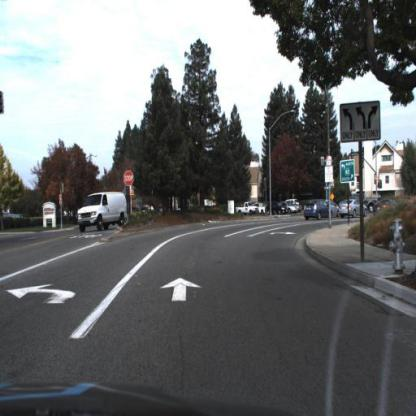car: (73, 186, 133, 235), (300, 195, 335, 224), (335, 195, 369, 222), (302, 201, 335, 228), (336, 197, 372, 220), (233, 200, 258, 221), (264, 201, 290, 219), (260, 199, 269, 219)
